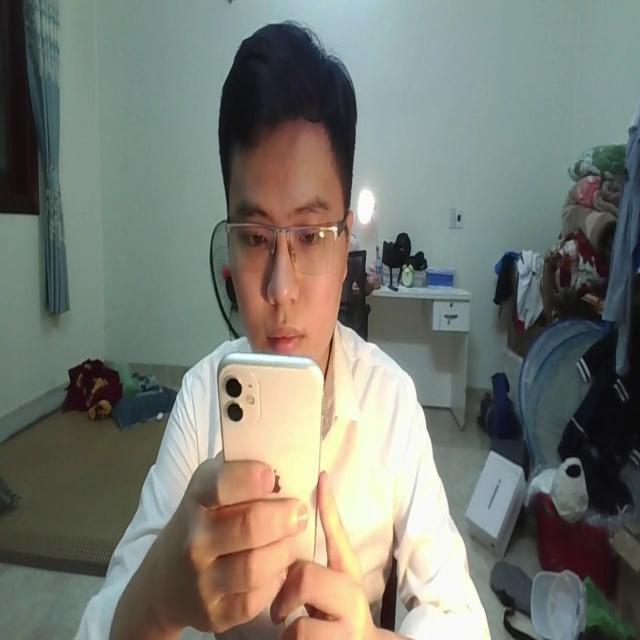phone: (216, 344, 324, 588)
student: (75, 28, 488, 640)
